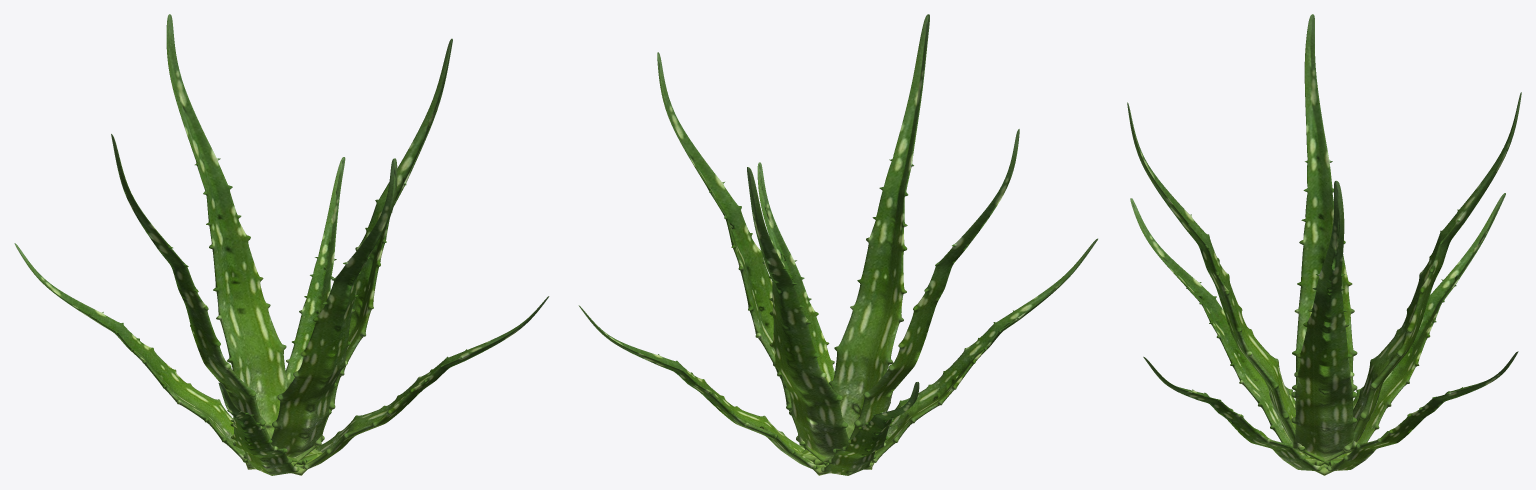
The model's file is lidah_buaya.glb.
3 renders of one model, left to right at view 1: azimuth 30°, elevation 25°; view 2: azimuth 150°, elevation 25°; view 3: azimuth 270°, elevation 25°, orthographic. The views are drawn at different scales.
Parts seen in each view (by area): view 1: Cube.003; view 2: Cube.003; view 3: Cube.003.
Boxes of the visible parts, bbox=[...] form: Cube.003: bbox=[14, 14, 549, 475]; Cube.003: bbox=[578, 14, 1097, 475]; Cube.003: bbox=[1127, 14, 1521, 475].
Size of the model in its own units: 0.497 by 0.5078 by 0.497.
1 material, 1 textured.
